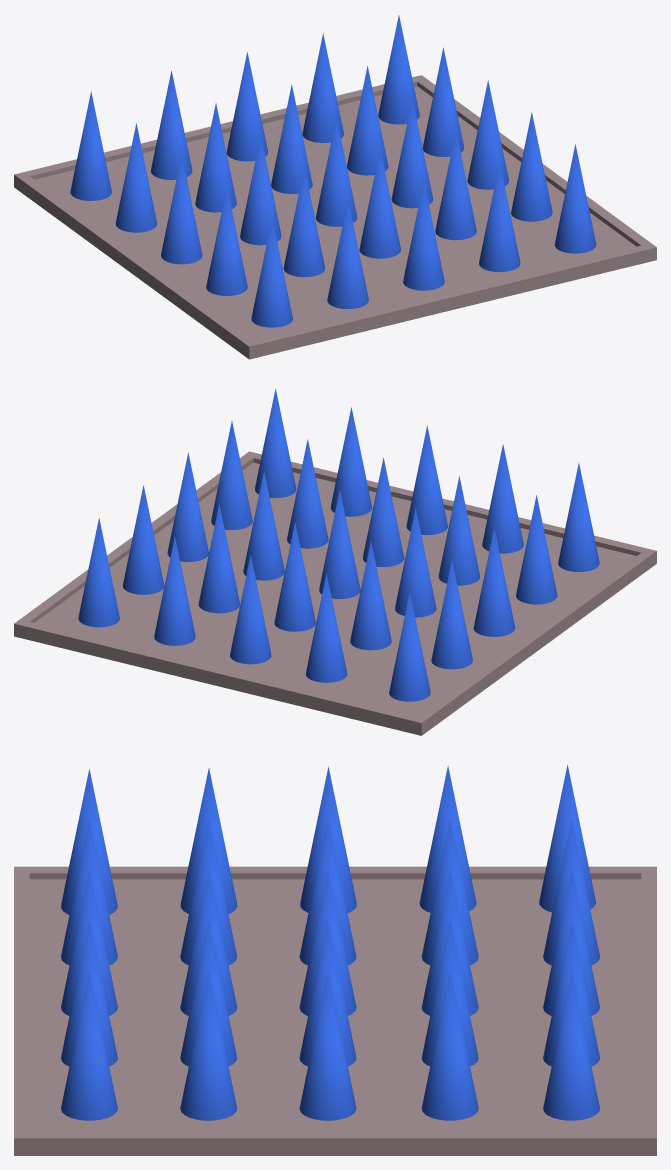
File: spike_trap_blue.fbx
3 views of the same model, one above another, from view 1: azimuth 30°, elevation 25°; view 2: azimuth 150°, elevation 25°; view 3: azimuth 270°, elevation 25° (orthographic). The views are drawn at different scales.
Parts seen in each view (by area): view 1: Cone.005; view 2: Cone.005; view 3: Cone.005.
Boxes of the visible parts, left/top/right/bottom form: Cone.005: left=14, top=15, right=656, bottom=359; Cone.005: left=14, top=389, right=656, bottom=735; Cone.005: left=14, top=765, right=656, bottom=1155.
Size of the model in its own units: 1000 by 257 by 1000.
